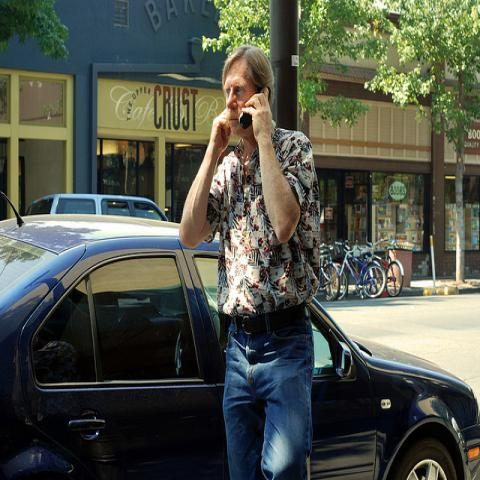car: (0, 216, 479, 475), (26, 194, 164, 215)
